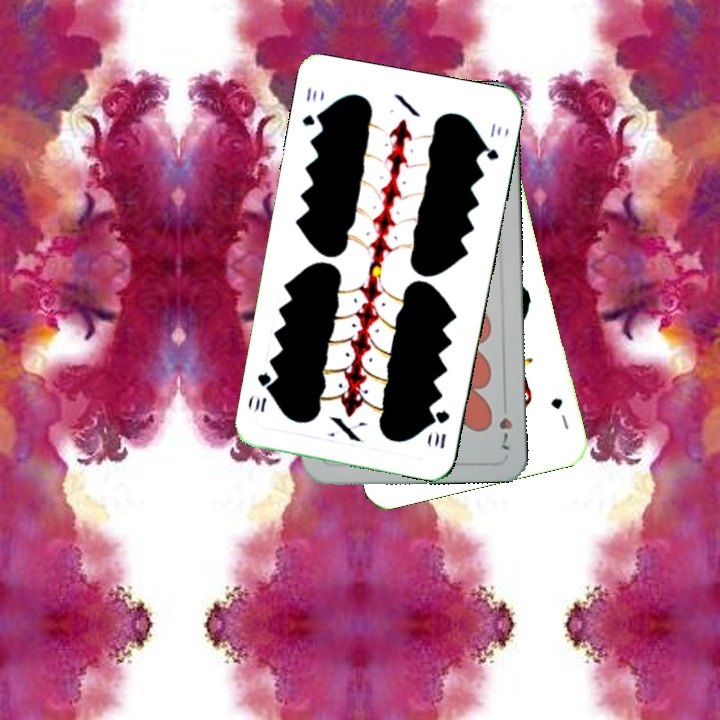G10: (298, 82, 325, 129), (430, 406, 452, 451)
GU: (547, 394, 572, 432)
H7: (495, 396, 515, 452)
